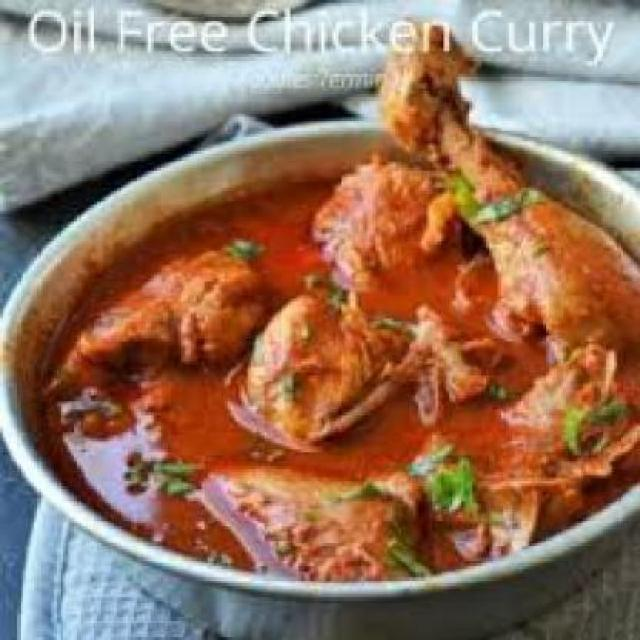CHICKEN CURRY: (36, 163, 638, 574)
